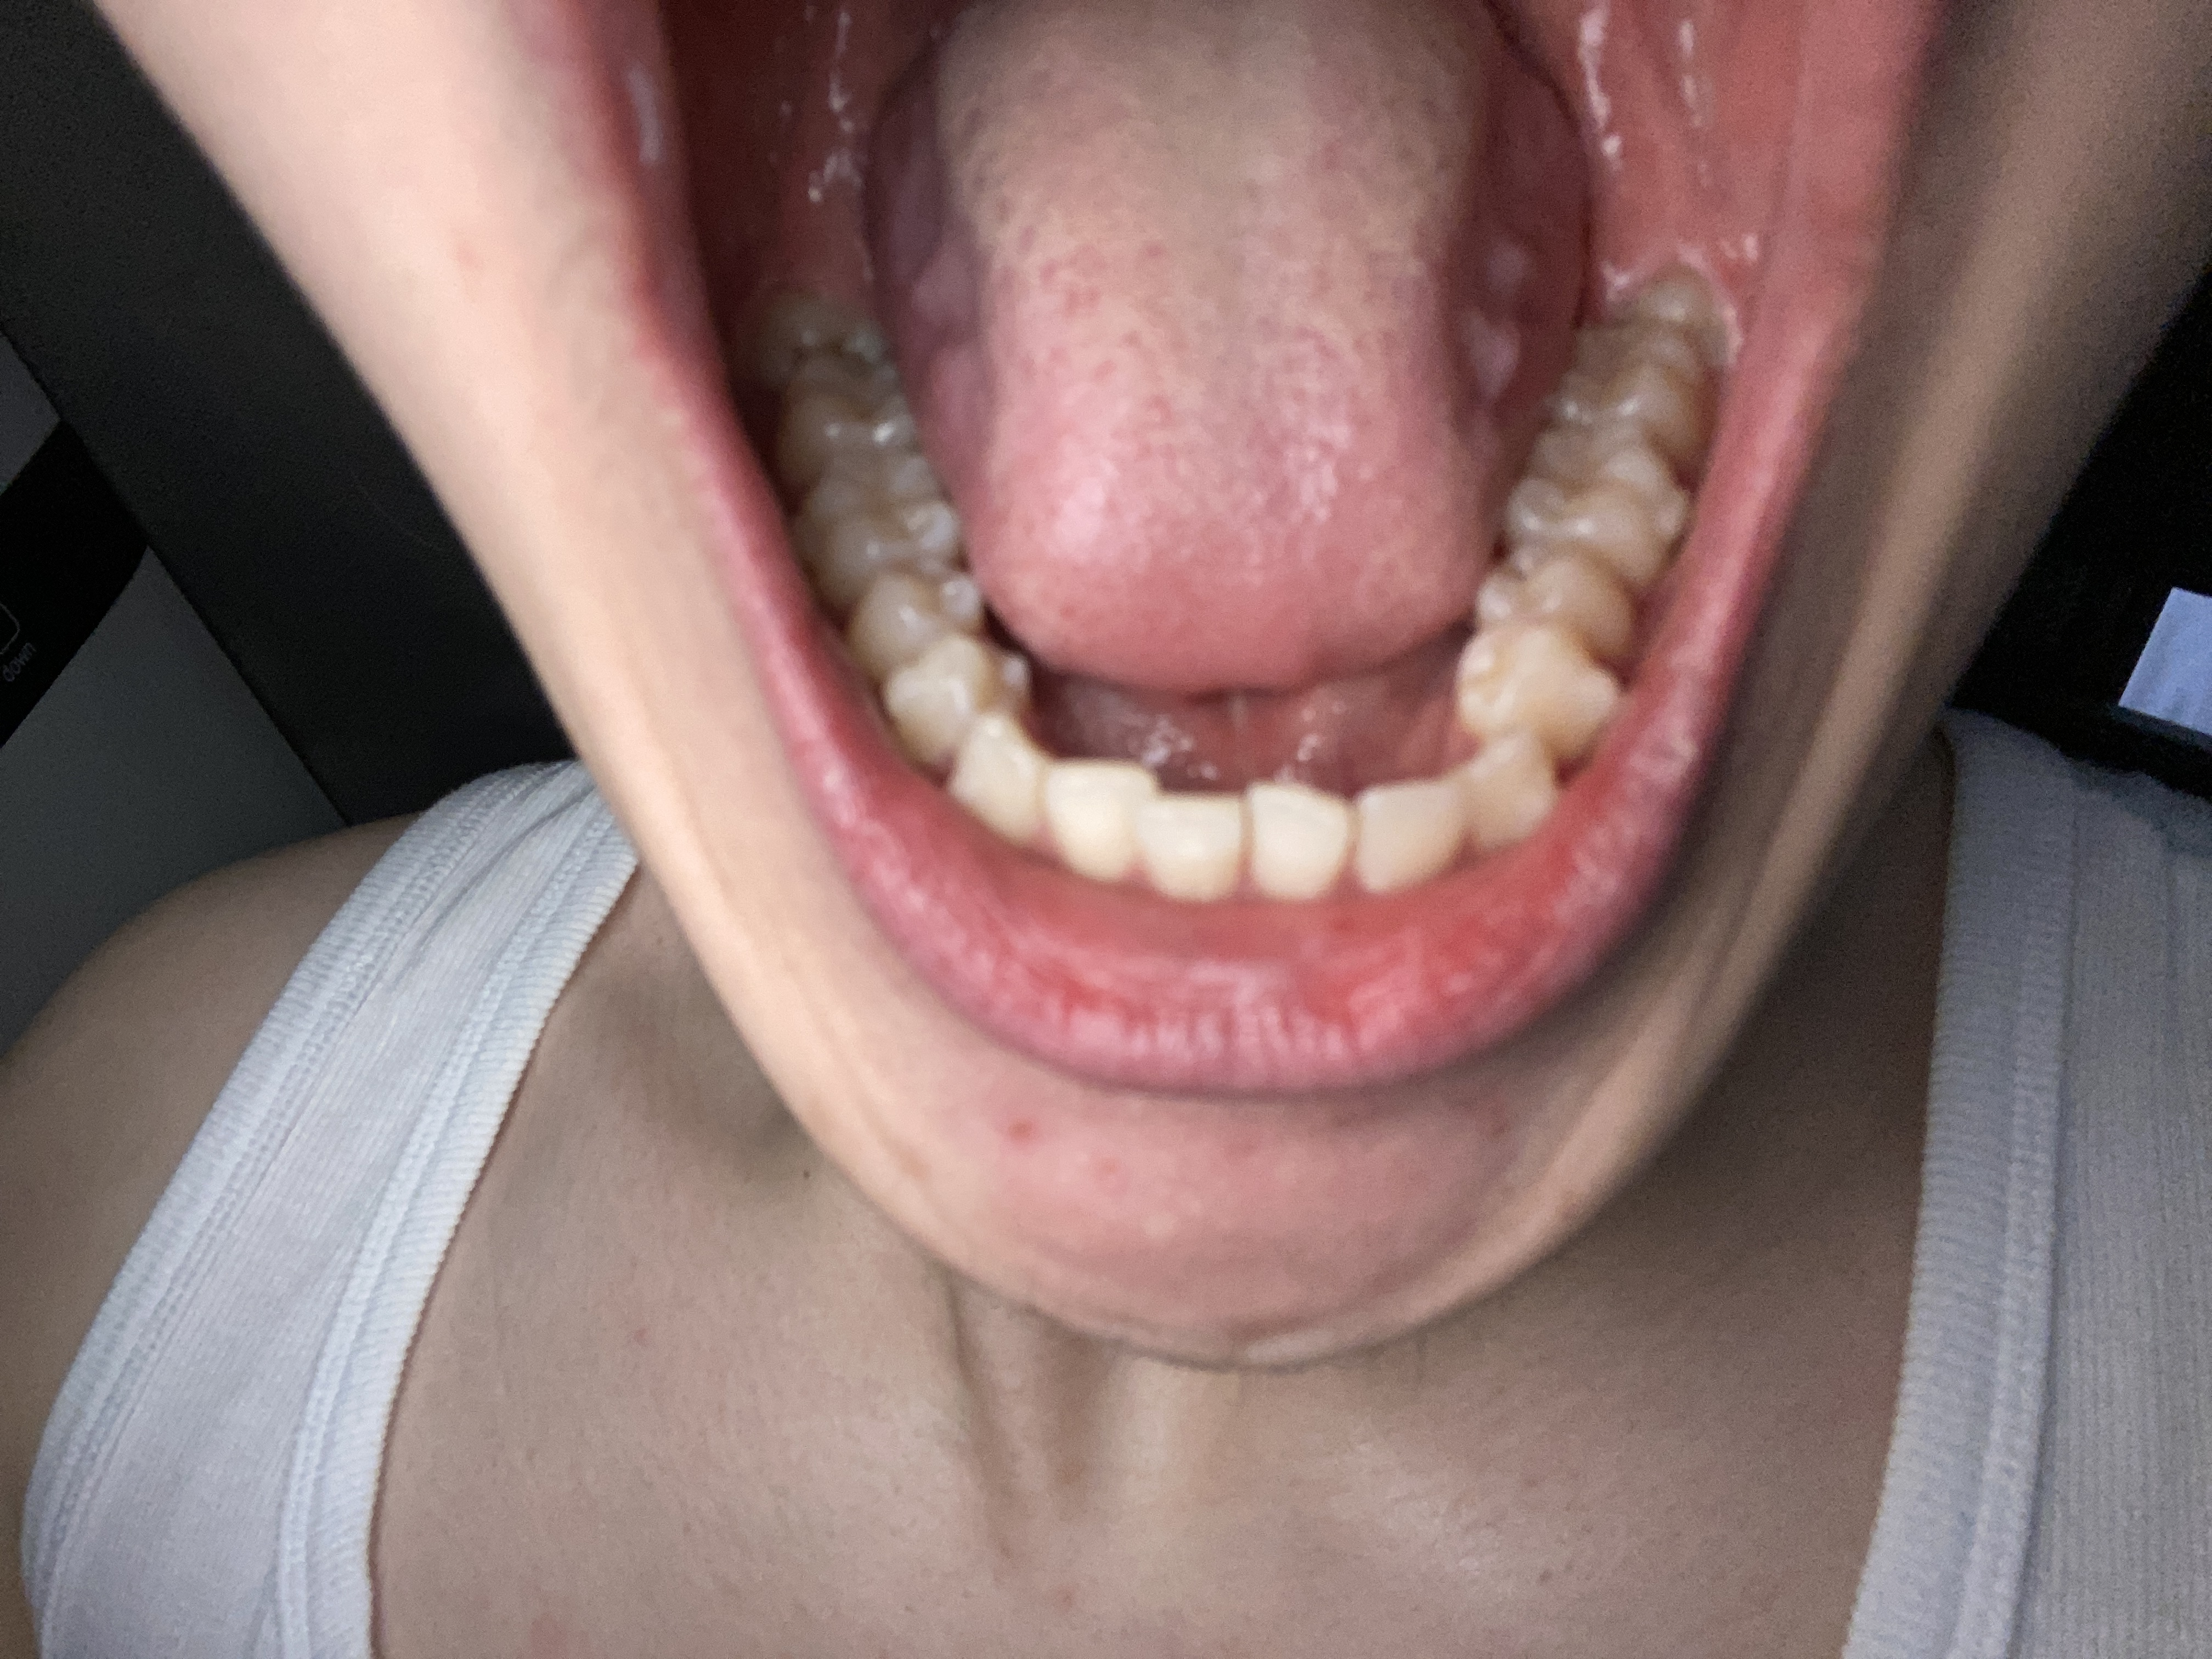teeth: (1515, 423, 1663, 584), (1463, 636, 1615, 755), (831, 451, 965, 584), (1552, 310, 1696, 416), (897, 636, 1035, 748), (867, 563, 991, 676), (1484, 547, 1635, 640), (946, 706, 1031, 850), (1047, 772, 1136, 897), (817, 352, 925, 455), (1148, 802, 1237, 899), (1477, 748, 1555, 850), (1371, 788, 1451, 887), (1259, 795, 1341, 887)
